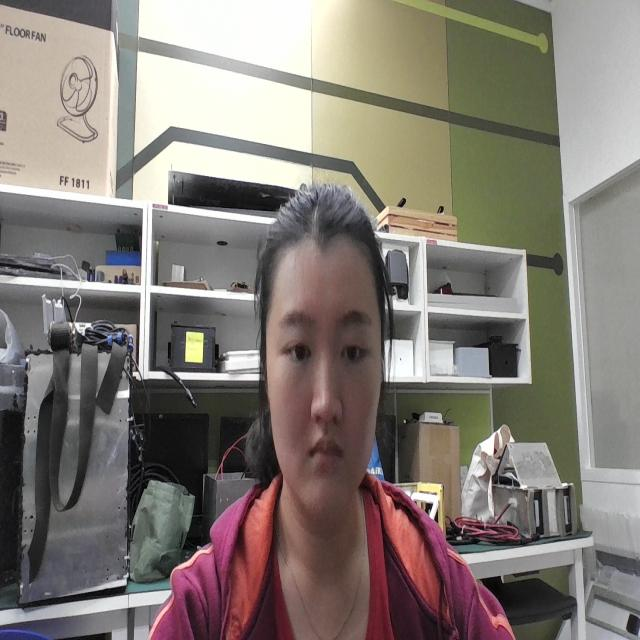Without Helmet: (241, 171, 418, 529)
